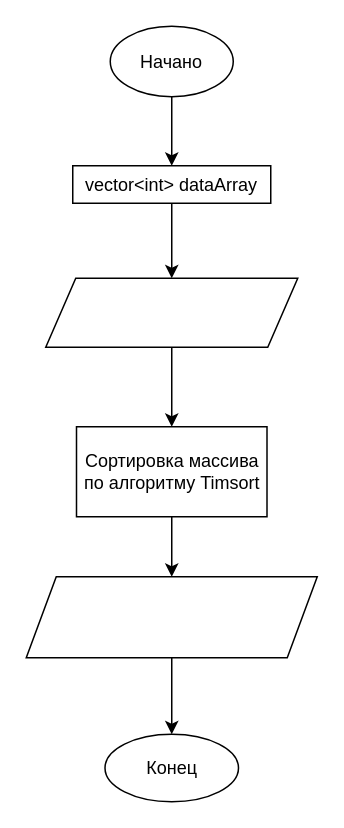
This 344x828 diagram has some shape labels left out. Each missing label, with the box of its shape:
Запись массива чисел из файла в массив.: (44, 277, 298, 347)
Запись отсортированного массива чисел из массива в файл.: (25, 575, 317, 658)
